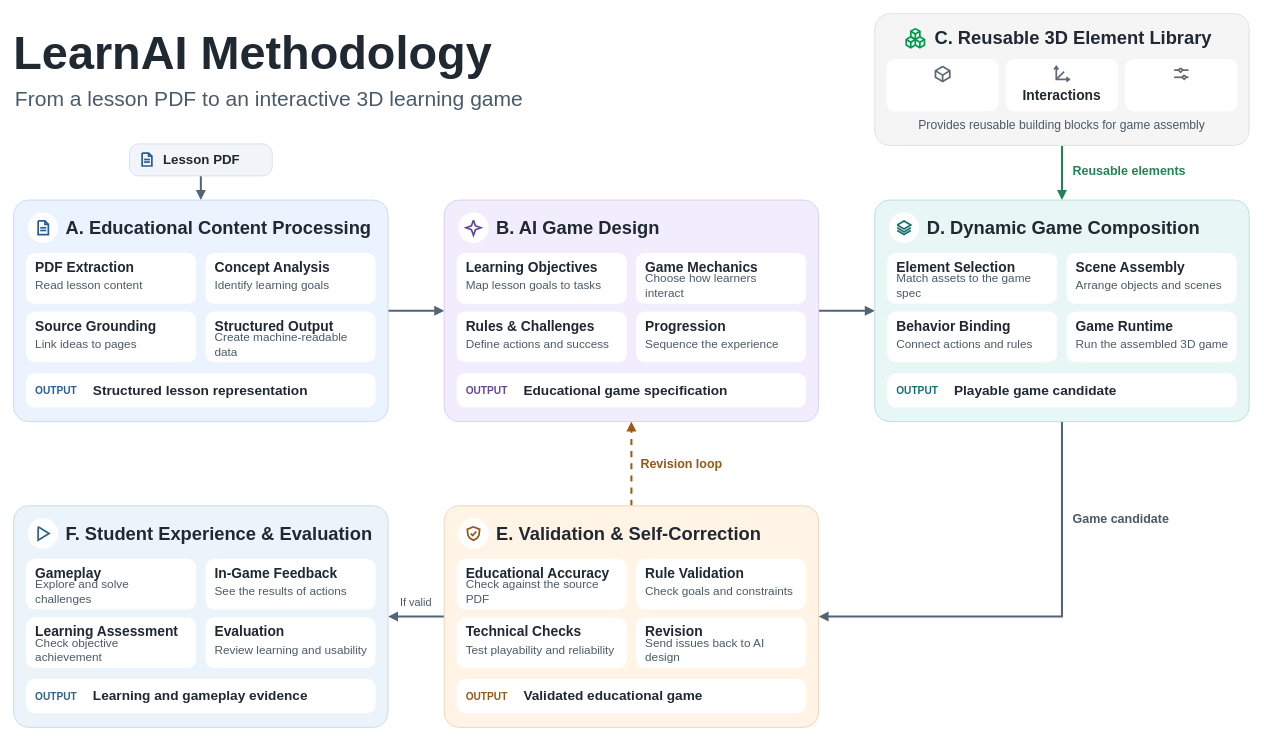
This 1264x742 diagram has some shape labels left out. The centre of each missing label's shape, as x and y in pixels:
"Behaviors" goes at point 1181,84.
"Objects" goes at point 942,84.
